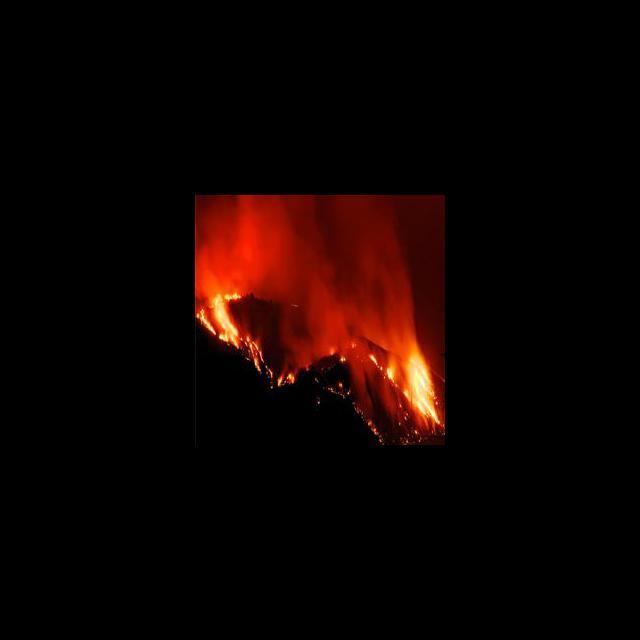Fire: (368, 343, 445, 426), (195, 284, 242, 350), (246, 336, 265, 372), (274, 371, 296, 387)
